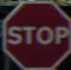Stop: (1, 2, 68, 61)
